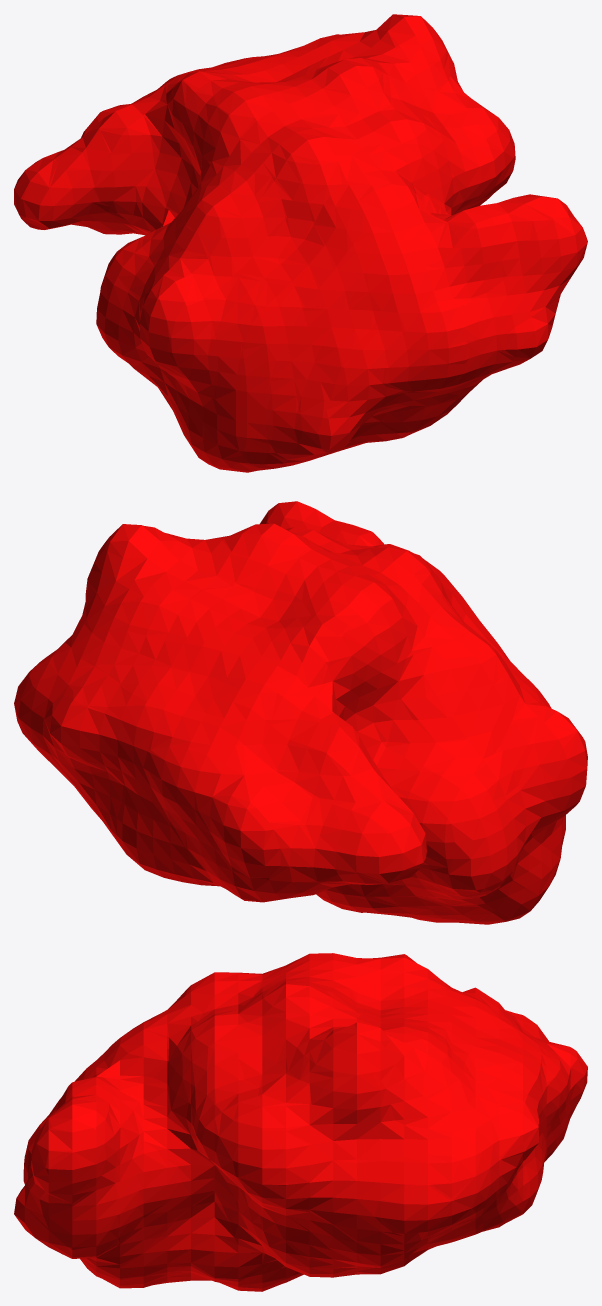
The model's file is rlmH_coarse.dae.
The picture shows the model from 3 angles, top to bottom: view 1: azimuth 30°, elevation 25°; view 2: azimuth 150°, elevation 25°; view 3: azimuth 270°, elevation 25°; orthographic projection. The views are drawn at different scales.
Visible parts, largest first — view 1: rlmH; view 2: rlmH; view 3: rlmH.
Boxes of the visible parts, <box> form: rlmH: <box>14,14,587,472</box>; rlmH: <box>14,501,587,924</box>; rlmH: <box>14,953,587,1291</box>.
Size of the model in its own units: 55.43 by 44.79 by 66.62.
